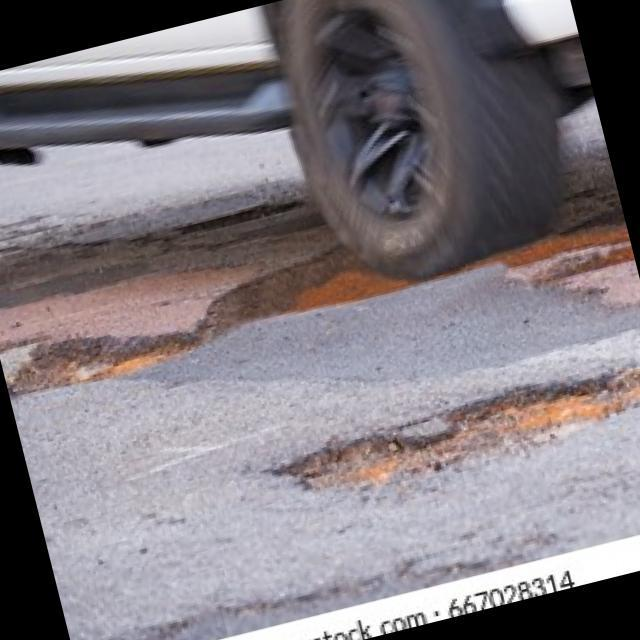Pothole: (255, 351, 640, 511), (0, 294, 199, 399), (186, 240, 358, 342)
